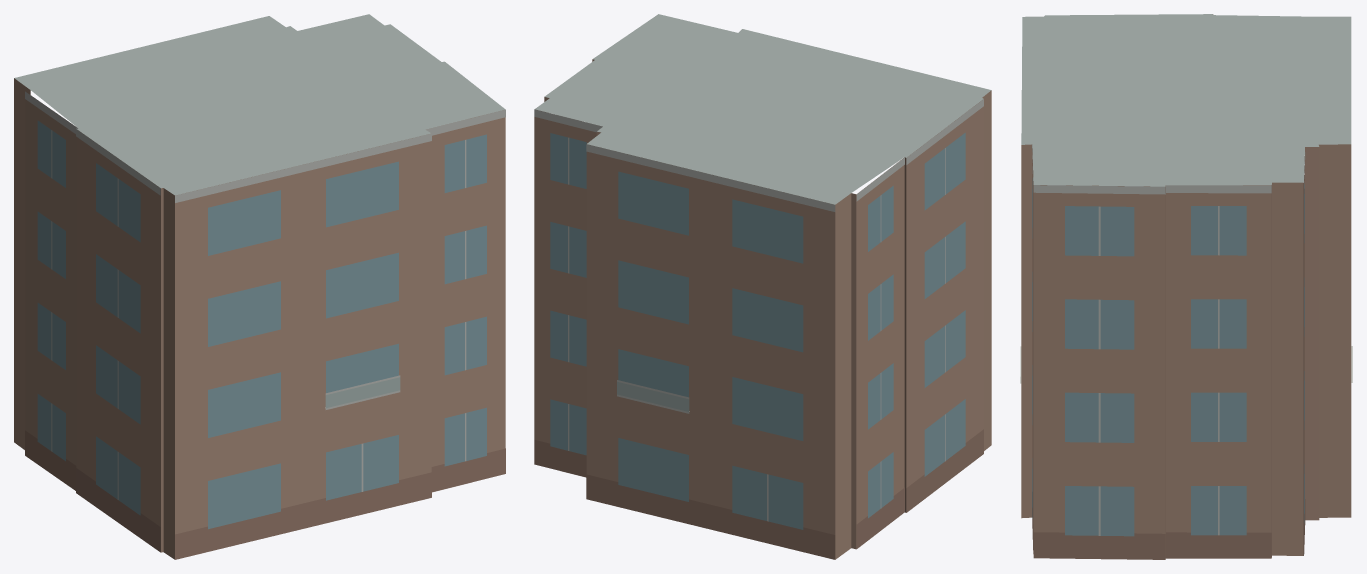
The model's file is survey-upis-33028656.glb.
The picture shows the model from 3 angles, left to right: view 1: azimuth 30°, elevation 25°; view 2: azimuth 150°, elevation 25°; view 3: azimuth 270°, elevation 25°; orthographic projection. The views are drawn at different scales.
Parts seen in each view (by area): view 1: survey-upis-33028656.tmp; view 2: survey-upis-33028656.tmp; view 3: survey-upis-33028656.tmp.
Boxes of the visible parts, <box> form: survey-upis-33028656.tmp: <box>14,14,505,559</box>; survey-upis-33028656.tmp: <box>534,14,991,559</box>; survey-upis-33028656.tmp: <box>1020,14,1352,559</box>.
Size of the model in its own units: 11.52 by 11.6 by 9.37.
